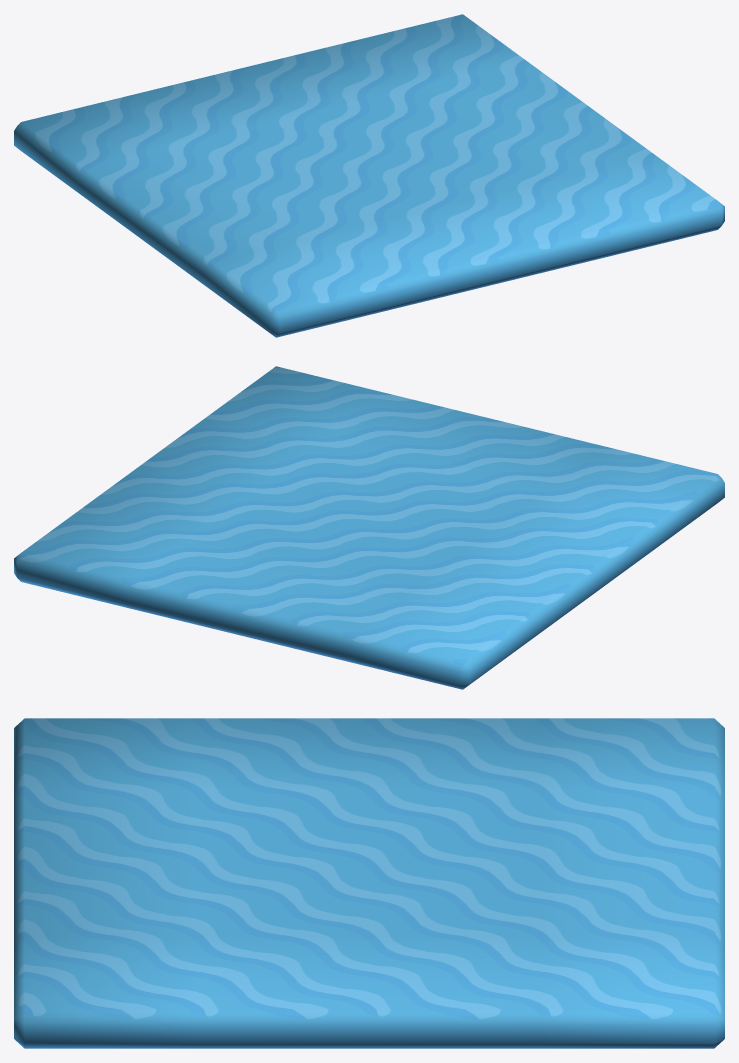
Rendered from water_top_8x8_shallow.fbx.
The picture shows the model from 3 angles, top to bottom: view 1: azimuth 30°, elevation 25°; view 2: azimuth 150°, elevation 25°; view 3: azimuth 270°, elevation 25°; orthographic projection. The views are drawn at different scales.
Parts seen in each view (by area): view 1: water_top_8x8_shallow; view 2: water_top_8x8_shallow; view 3: water_top_8x8_shallow.
Boxes of the visible parts, x1,y1,x2,y2 form: water_top_8x8_shallow: (14,14,724,337); water_top_8x8_shallow: (14,366,724,689); water_top_8x8_shallow: (14,718,724,1048).
Bounding box in the file's own units: 825 × 50 × 825.
